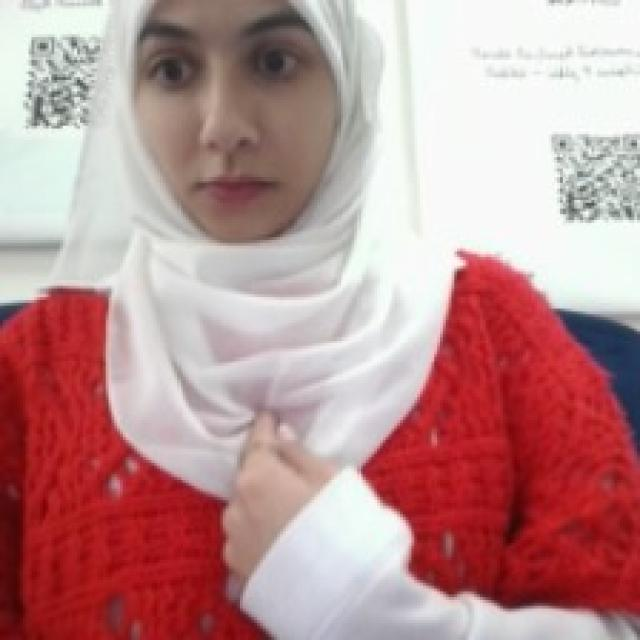me: (212, 402, 342, 594)
